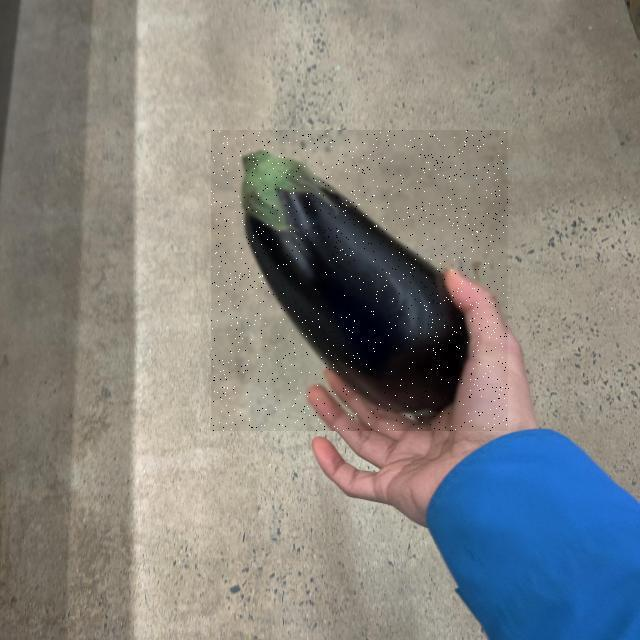Egg Plant: (212, 130, 510, 431)
